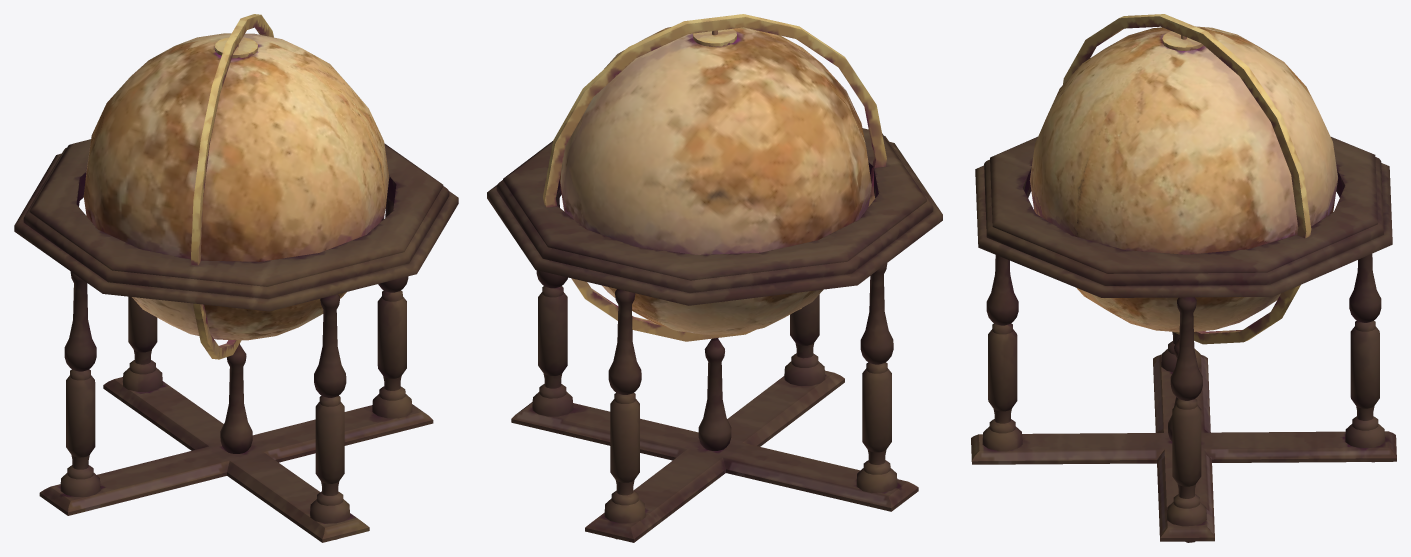
The model's file is Room01_globespinningupdate.fbx.
The picture shows the model from 3 angles, left to right: view 1: azimuth 30°, elevation 25°; view 2: azimuth 150°, elevation 25°; view 3: azimuth 270°, elevation 25°; orthographic projection. The views are drawn at different scales.
Visible parts, largest first — view 1: Globe, Globe.001; view 2: Globe, Globe.001; view 3: Globe, Globe.001.
Part boxes in pixels (x1,y1,x2,y2): Globe: (14, 14, 458, 542); Globe.001: (83, 33, 389, 340); Globe: (487, 14, 942, 542); Globe.001: (559, 27, 871, 334); Globe: (971, 14, 1396, 542); Globe.001: (1029, 26, 1337, 332).
Size of the model in its own units: 276 by 313 by 276.
